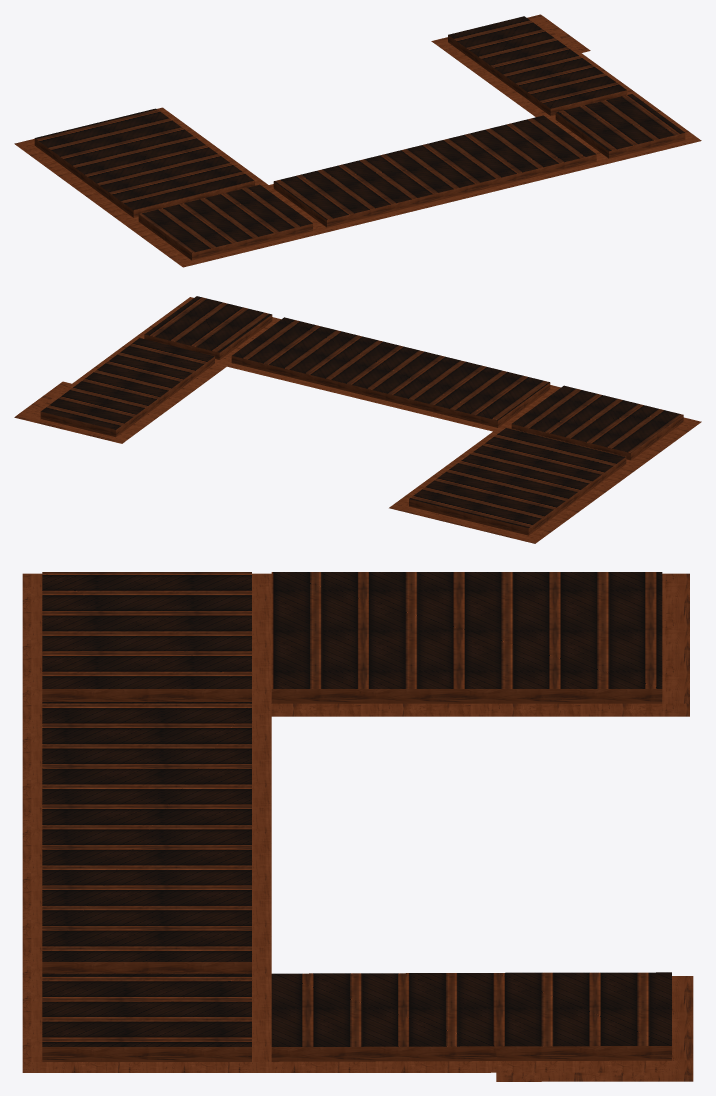
The model's file is Atrium_LowerCeilingbit.fbx.
3 views of the same model, one above another, from view 1: azimuth 30°, elevation 25°; view 2: azimuth 150°, elevation 25°; view 3: azimuth 270°, elevation 25° (orthographic). The views are drawn at different scales.
Parts seen in each view (by area): view 1: Atrium LowerCeiling; view 2: Atrium LowerCeiling; view 3: Atrium LowerCeiling.
Boxes of the visible parts, x1,y1,x2,y2 form: Atrium LowerCeiling: (14, 14, 701, 267); Atrium LowerCeiling: (14, 296, 701, 543); Atrium LowerCeiling: (22, 572, 693, 1081).
Bounding box in the file's own units: 785 × 10.59 × 437.
